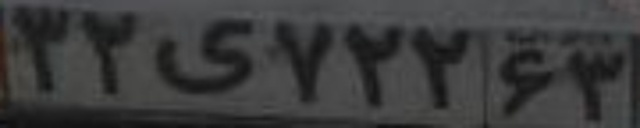2: (405, 27, 470, 109), (80, 8, 139, 94), (343, 27, 403, 107)
3: (10, 5, 72, 92), (568, 49, 626, 122)
6: (491, 48, 555, 116)
7: (273, 22, 335, 104)
he: (150, 17, 257, 95)
